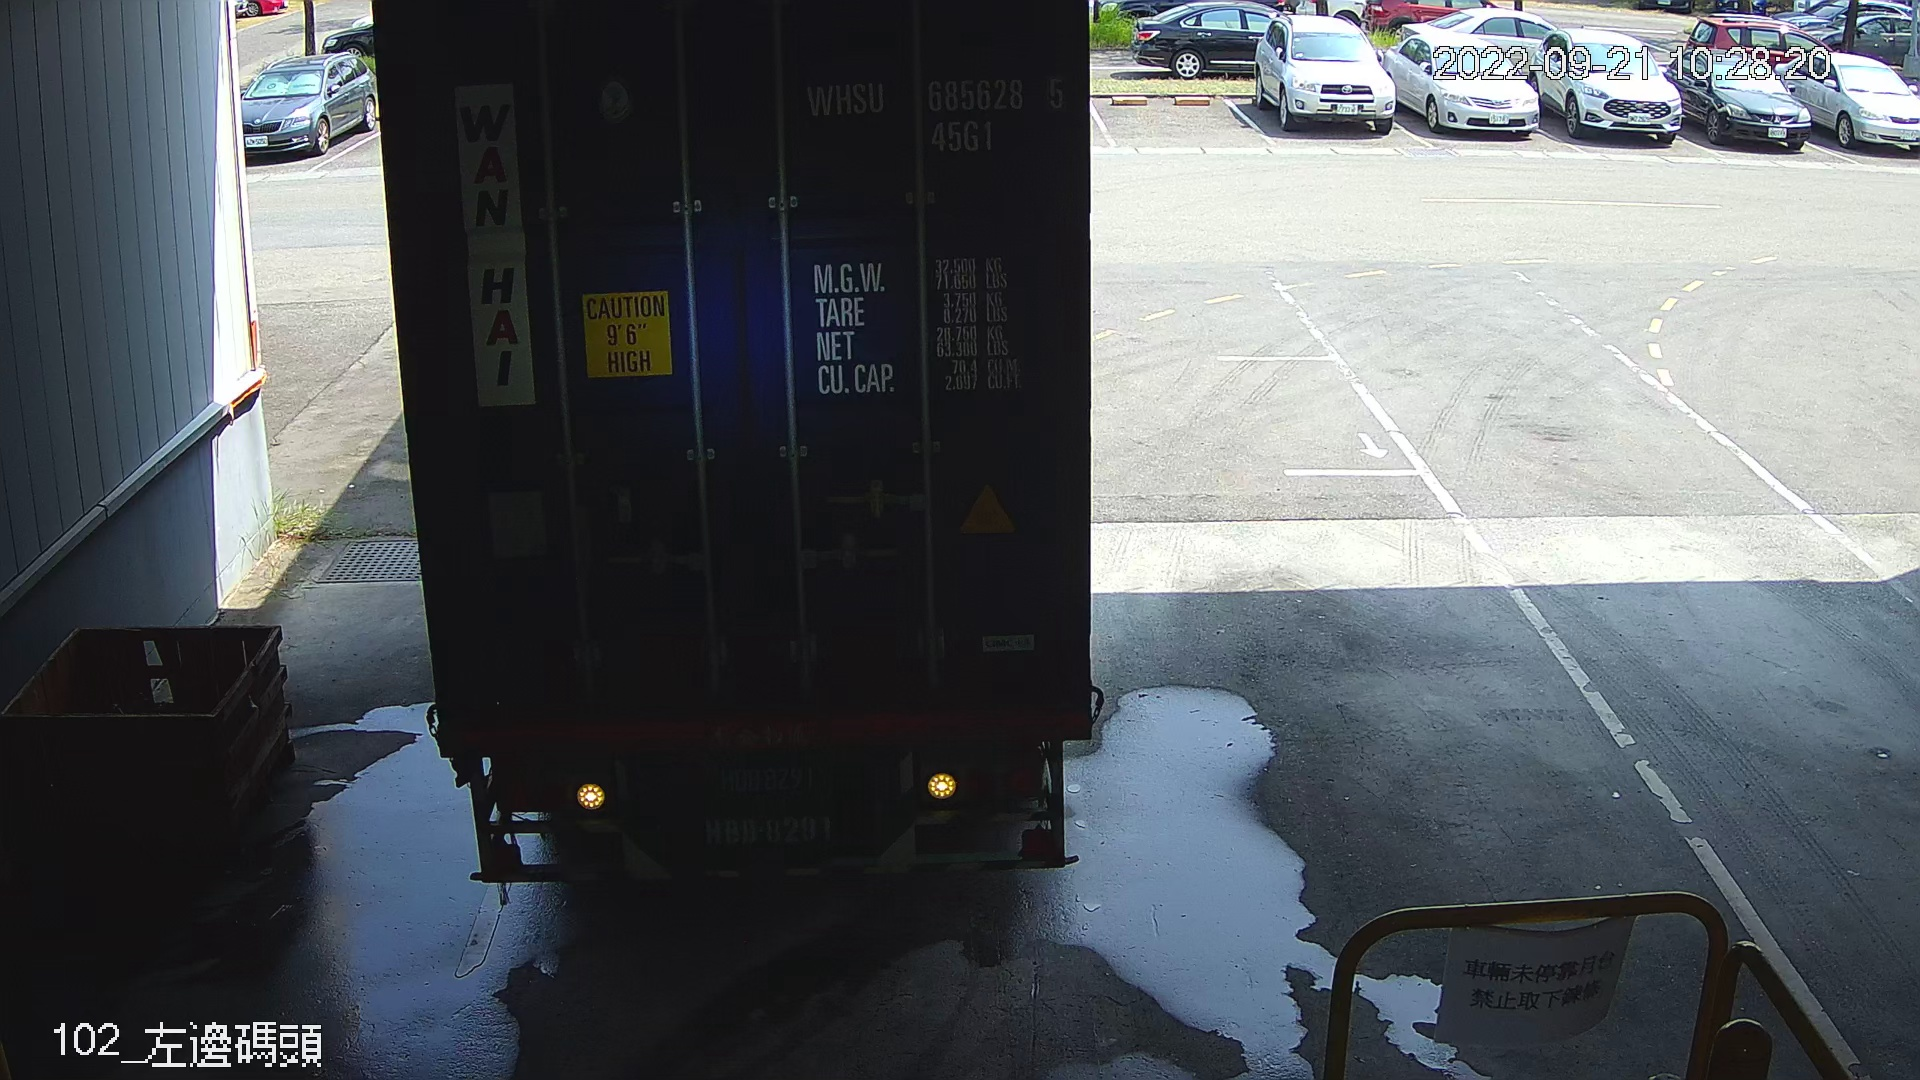container: (795, 66, 1075, 164)
